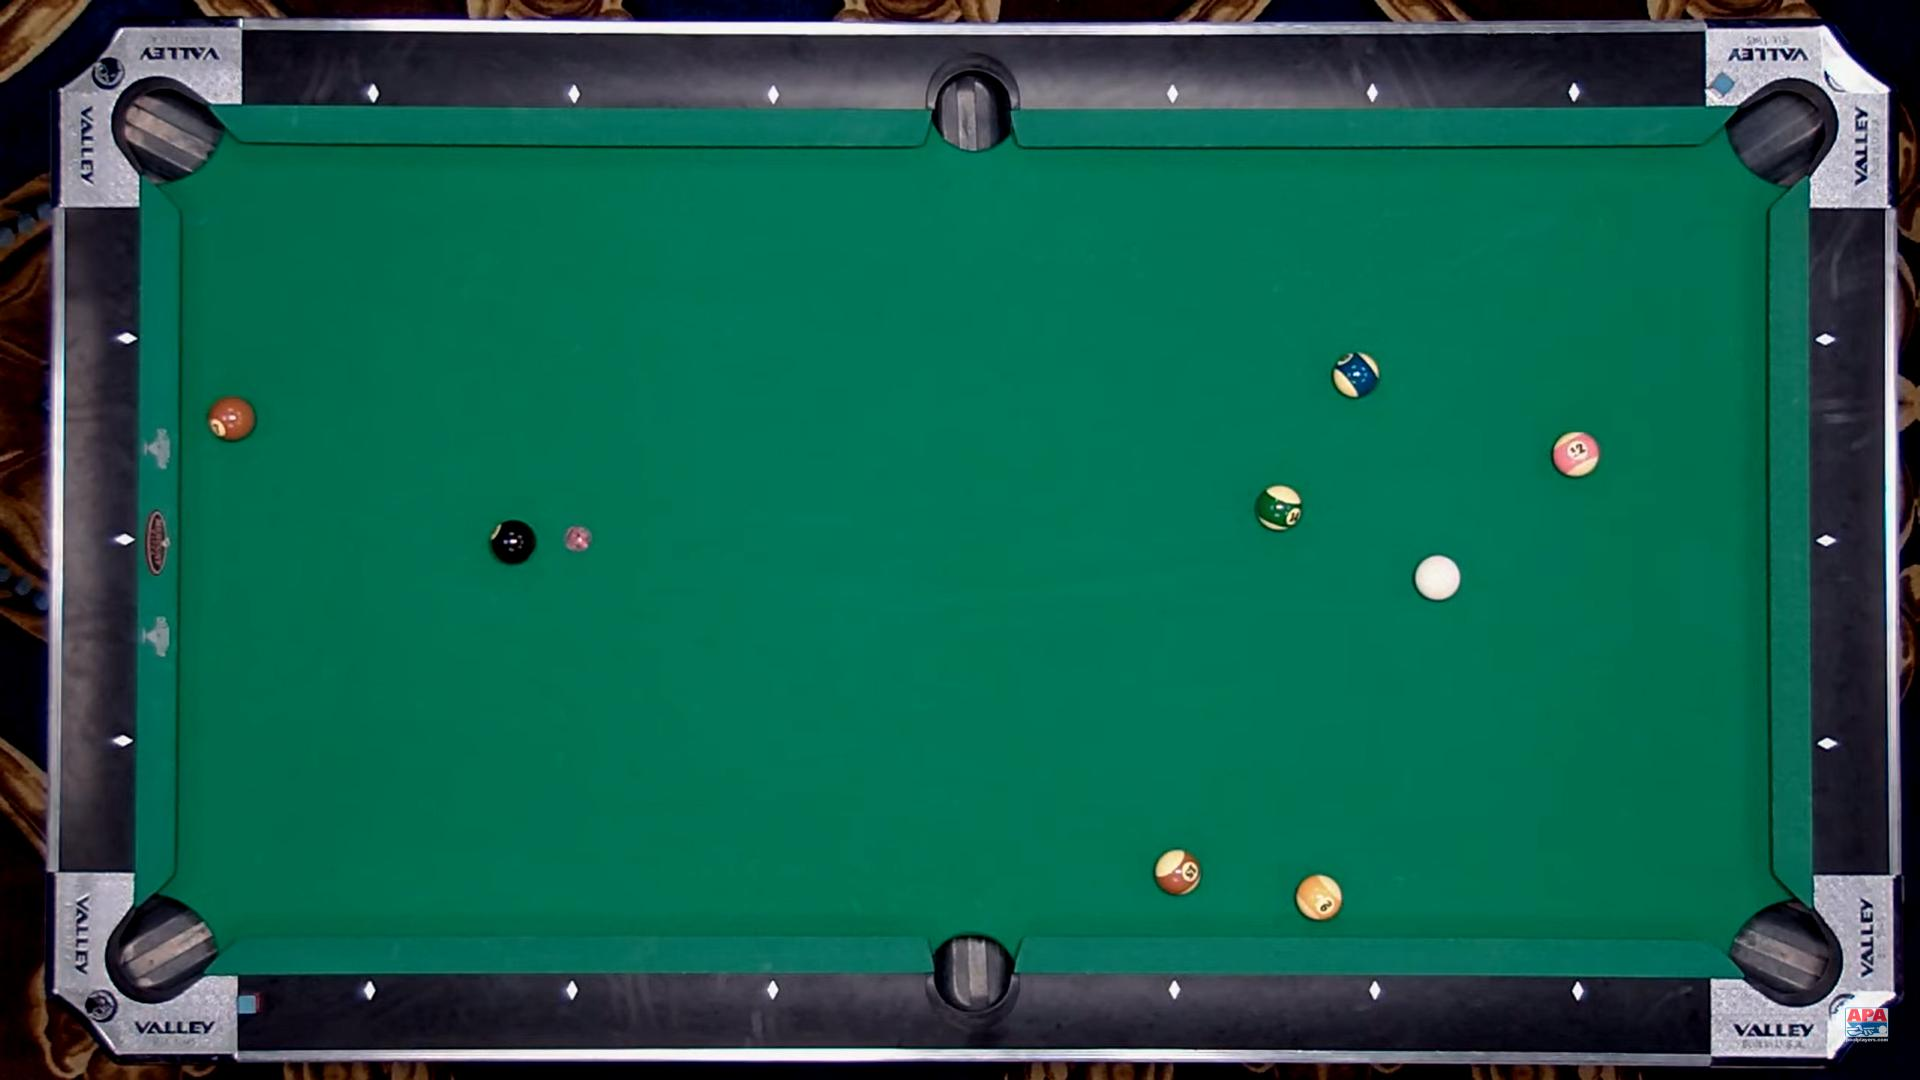Black: (491, 520, 537, 564)
Cue: (1415, 554, 1461, 600)
Dot: (117, 534, 132, 549), (1567, 86, 1581, 100), (1571, 985, 1585, 1000), (766, 982, 781, 997), (564, 982, 579, 997), (361, 984, 376, 998), (115, 735, 128, 749), (120, 332, 135, 345), (767, 87, 781, 102), (1166, 88, 1180, 102), (1818, 331, 1832, 345), (1818, 534, 1833, 547), (1820, 738, 1833, 753), (1367, 982, 1381, 997), (1167, 984, 1182, 997), (367, 86, 380, 99), (566, 88, 579, 102), (1365, 87, 1378, 100)
Solid: (208, 397, 256, 440)
Striped: (1154, 848, 1201, 895), (1254, 485, 1303, 531), (1552, 431, 1600, 477), (1332, 352, 1379, 398), (1295, 874, 1342, 920)
